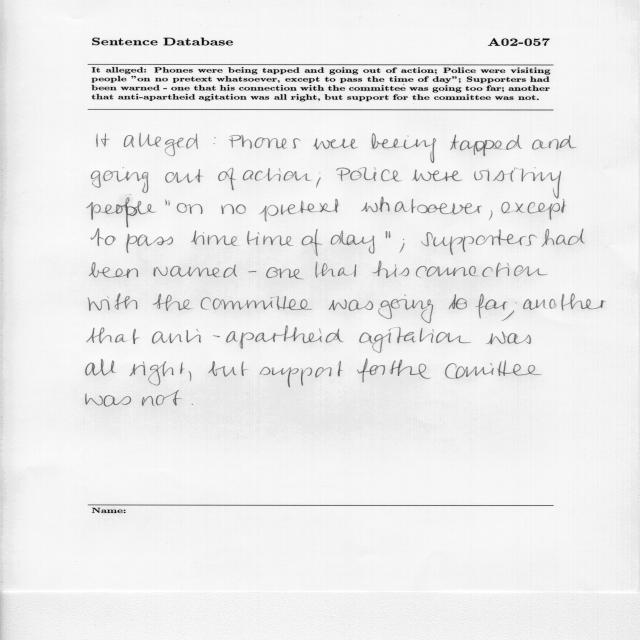word: (152, 326, 344, 349), (421, 229, 537, 255), (359, 327, 471, 353), (474, 168, 561, 199), (260, 361, 343, 387), (87, 198, 156, 228), (361, 197, 482, 214), (416, 263, 547, 278), (371, 133, 436, 163), (445, 360, 542, 379), (260, 199, 340, 222), (124, 133, 198, 156), (92, 167, 149, 195), (201, 296, 313, 310), (378, 295, 433, 323), (450, 135, 523, 156), (523, 294, 606, 311), (130, 361, 185, 386), (502, 199, 567, 220), (153, 264, 238, 278), (475, 294, 514, 321), (331, 231, 375, 254), (229, 135, 301, 149), (336, 167, 402, 182), (87, 327, 140, 344), (243, 168, 312, 181), (126, 234, 173, 253), (88, 293, 137, 311), (390, 359, 431, 379), (542, 228, 585, 247), (90, 262, 139, 278), (191, 230, 238, 246), (247, 231, 294, 246), (152, 294, 193, 311), (532, 135, 576, 150), (315, 262, 356, 278), (357, 359, 385, 382), (208, 361, 248, 377), (86, 393, 131, 407), (372, 261, 409, 278), (486, 332, 531, 345), (302, 229, 323, 256), (412, 170, 462, 181), (166, 169, 204, 183), (329, 299, 373, 311), (86, 359, 116, 376), (313, 139, 358, 150), (266, 267, 304, 279), (91, 228, 116, 246), (218, 168, 237, 190), (156, 391, 182, 406), (177, 203, 203, 214), (449, 294, 467, 309), (221, 204, 246, 214), (97, 133, 110, 147), (142, 396, 155, 406), (399, 239, 405, 253), (316, 172, 321, 188), (489, 211, 493, 221), (165, 200, 170, 206), (189, 371, 192, 381), (386, 231, 390, 238), (213, 137, 216, 144), (248, 271, 257, 272), (515, 303, 517, 304)
